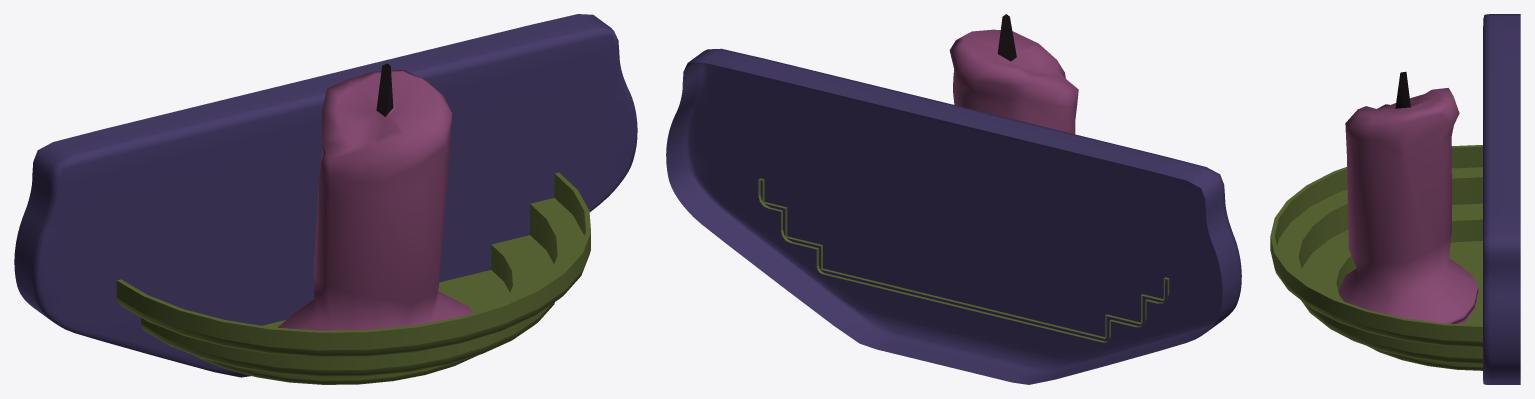
File: WallCandleHolder_Style_01.fbx
3 renders of one model, left to right at view 1: azimuth 30°, elevation 25°; view 2: azimuth 150°, elevation 25°; view 3: azimuth 270°, elevation 25°, orthographic. The views are drawn at different scales.
Visible parts, largest first — view 1: SetA_WallCandleHolder_Style_01; view 2: SetA_WallCandleHolder_Style_01; view 3: SetA_WallCandleHolder_Style_01.
Boxes of the visible parts, x1,y1,x2,y2 form: SetA_WallCandleHolder_Style_01: (14,14,637,384); SetA_WallCandleHolder_Style_01: (666,14,1241,384); SetA_WallCandleHolder_Style_01: (1270,14,1520,384).
Size of the model in its own units: 0.3933 by 0.2046 by 0.1677.
